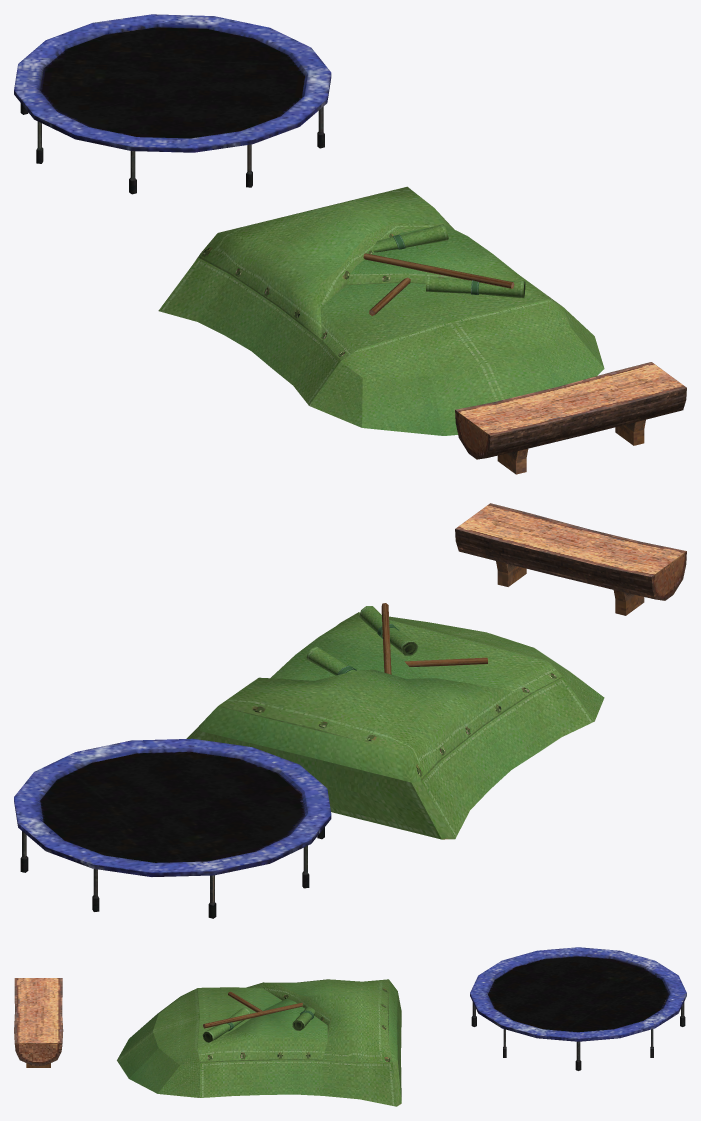
3 renders of one model, top to bottom at view 1: azimuth 30°, elevation 25°; view 2: azimuth 150°, elevation 25°; view 3: azimuth 270°, elevation 25°, orthographic. The views are drawn at different scales.
Parts seen in each view (by area): view 1: TentCampingDown, BouncyBottom__1_, LogBench, PaddingSides, TentCampingDown_Wood, TrampolineA; view 2: TentCampingDown, BouncyBottom__1_, LogBench, PaddingSides, TentCampingDown_Wood, TrampolineA; view 3: TentCampingDown, BouncyBottom__1_, PaddingSides, LogBench, TentCampingDown_Wood, TrampolineA.
Boxes of the visible parts, x1,y1,x2,y2 form: TentCampingDown: (158, 186, 604, 435); BouncyBottom__1_: (40, 27, 304, 138); LogBench: (455, 362, 686, 474); PaddingSides: (14, 14, 331, 152); TentCampingDown_Wood: (363, 253, 514, 315); TrampolineA: (20, 103, 324, 194); TentCampingDown: (186, 606, 604, 839); BouncyBottom__1_: (40, 751, 304, 862); LogBench: (455, 503, 686, 615); PaddingSides: (14, 738, 331, 876); TentCampingDown_Wood: (381, 603, 487, 674); TrampolineA: (20, 827, 324, 918); TentCampingDown: (117, 979, 401, 1106); BouncyBottom__1_: (488, 956, 668, 1032); PaddingSides: (470, 947, 686, 1041); LogBench: (14, 978, 63, 1067); TentCampingDown_Wood: (203, 991, 302, 1028); TrampolineA: (471, 1002, 685, 1070).
Size of the model in its own units: 354 by 113 by 1023.
